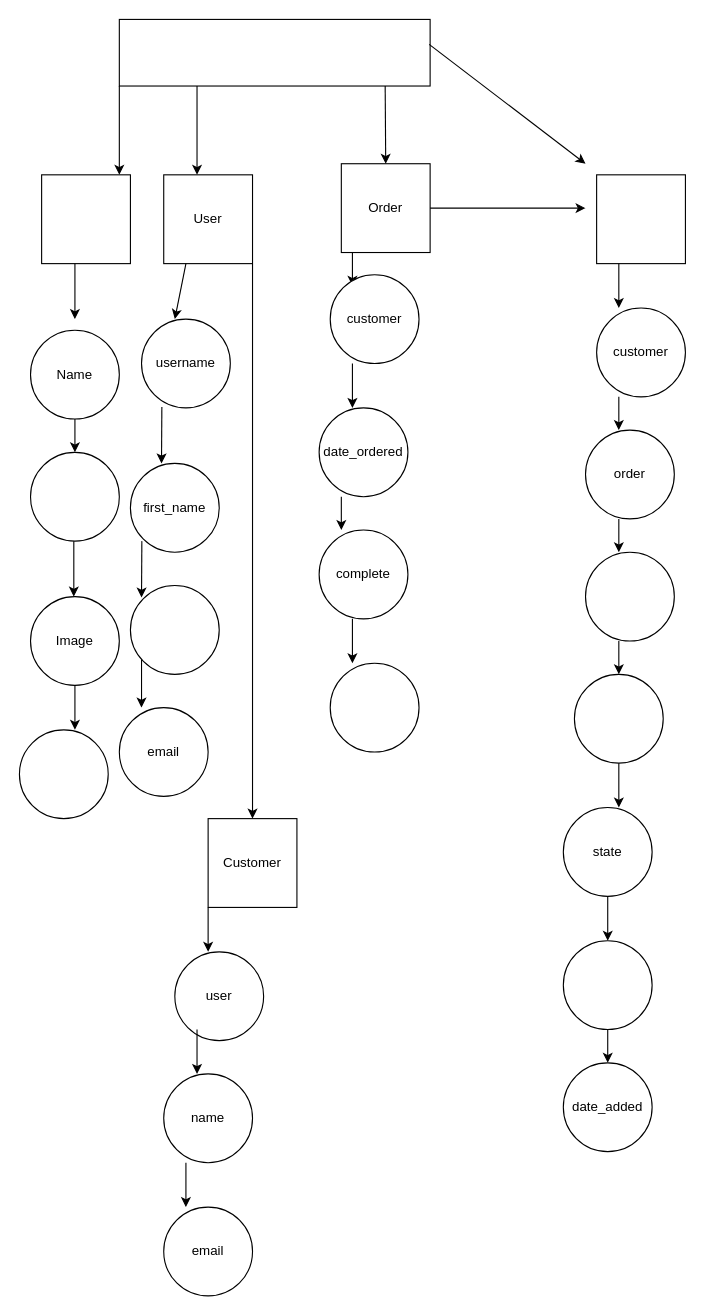
Image size: 705x1315. Some labels were removed from this diagram. Each missing label, with the centre of its shape:
"address" belongs at (629,596).
"city" belongs at (618,718).
"Database" belongs at (274,52).
"last_name" belongs at (174,629).
"order_id" belongs at (374,707).
"Price" belongs at (74,496).
"Product" belongs at (85,219).
"Shipping Address" belongs at (640,219).
"zipocode" belongs at (607,985).
